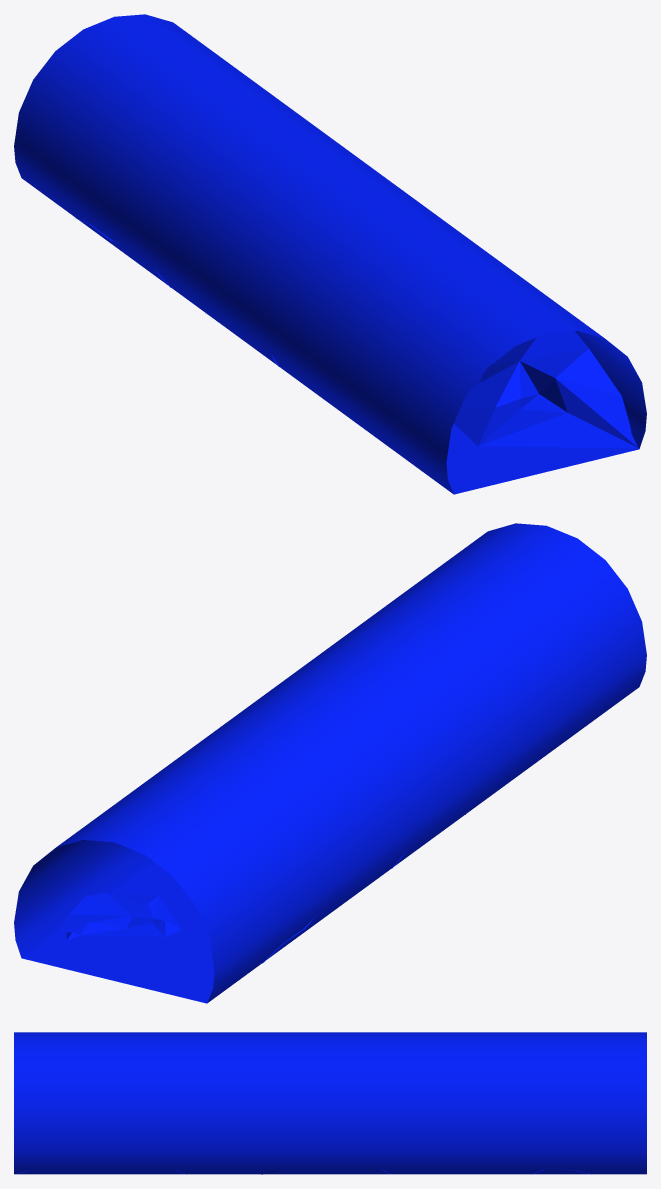
File: Straight_Collider.DAE
3 renders of one model, top to bottom at view 1: azimuth 30°, elevation 25°; view 2: azimuth 150°, elevation 25°; view 3: azimuth 270°, elevation 25°, orthographic. The views are drawn at different scales.
Parts seen in each view (by area): view 1: Straight_Collider; view 2: Straight_Collider; view 3: Straight_Collider.
Part boxes in pixels (box(x1,y1,x2,y2)): Straight_Collider: box(14, 14, 646, 494); Straight_Collider: box(14, 523, 646, 1003); Straight_Collider: box(14, 1032, 646, 1174).
Bounding box in the file's own units: 536 × 2000 × 354.
